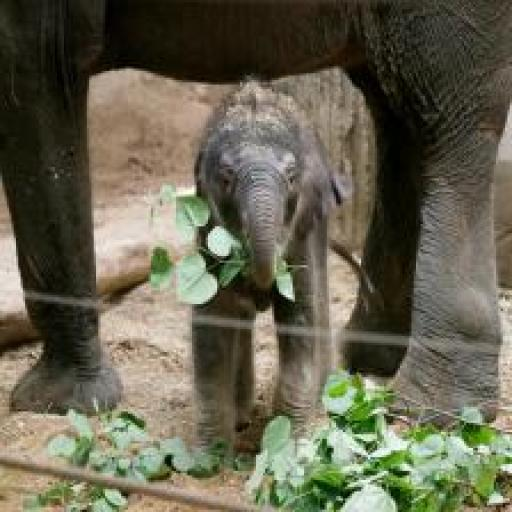Elephant: (171, 80, 342, 475)
